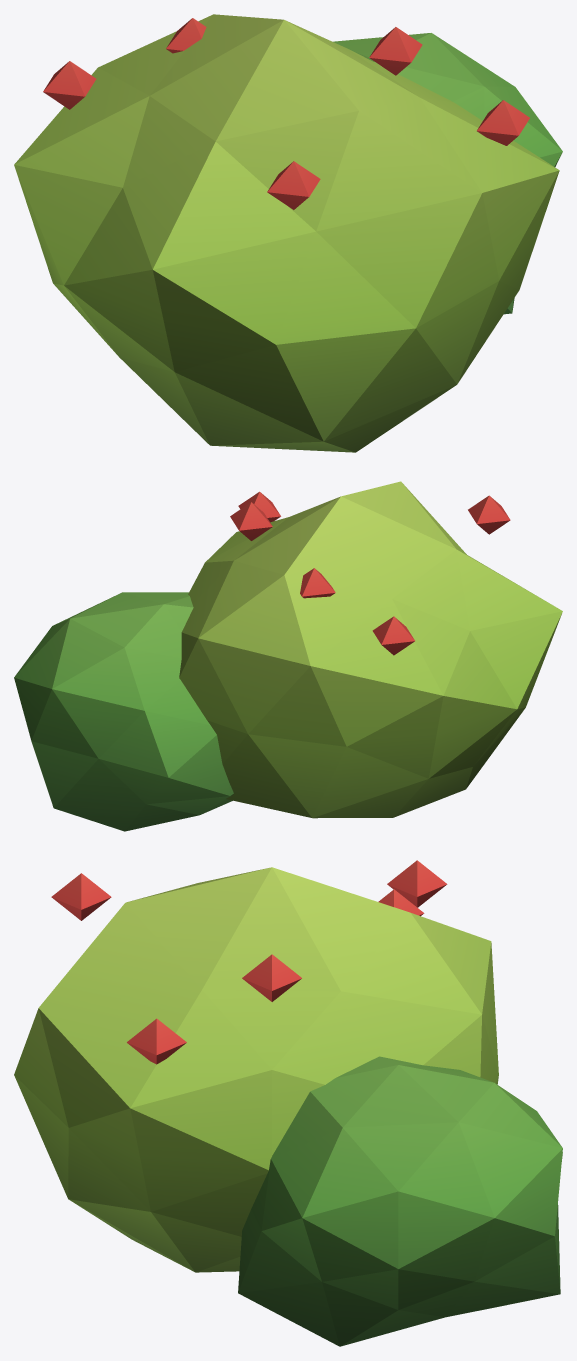
The model's file is bush_berry.glb.
The picture shows the model from 3 angles, top to bottom: view 1: azimuth 30°, elevation 25°; view 2: azimuth 150°, elevation 25°; view 3: azimuth 270°, elevation 25°; orthographic projection. The views are drawn at different scales.
Visible parts, largest first — view 1: bush_berry; view 2: bush_berry; view 3: bush_berry.
Part boxes in pixels (x1=…): bush_berry: x1=14, y1=14, x2=562, y2=452; bush_berry: x1=14, y1=481, x2=562, y2=831; bush_berry: x1=14, y1=860, x2=562, y2=1346.
Size of the model in its own units: 4.75 by 3.4 by 4.34.
Materials: 1 (1 with a texture image).
